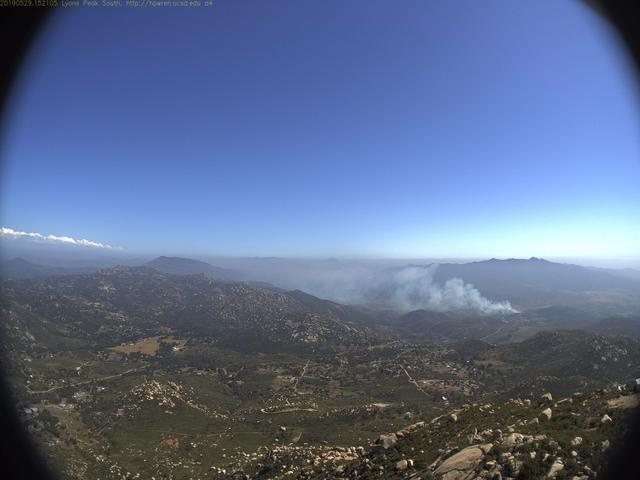Smoke: (316, 262, 522, 316)
